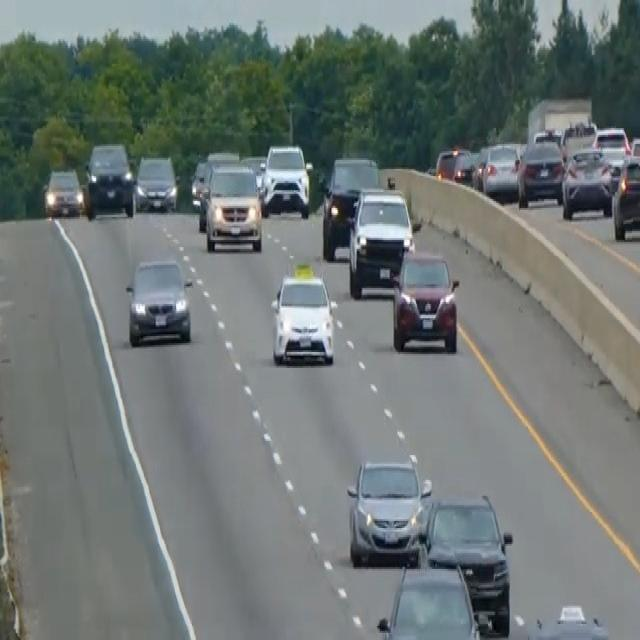car: (416, 491, 513, 633), (345, 455, 431, 565), (376, 560, 481, 638), (347, 185, 414, 299), (390, 247, 460, 354), (268, 260, 337, 368), (124, 256, 193, 347), (321, 154, 379, 260), (83, 140, 135, 218), (260, 142, 311, 219), (561, 146, 613, 220), (516, 135, 564, 208), (517, 603, 614, 638), (190, 148, 239, 212), (473, 141, 521, 199), (134, 151, 178, 212), (612, 151, 639, 240), (43, 165, 83, 217), (592, 122, 631, 172), (435, 144, 474, 185), (560, 119, 596, 157), (189, 155, 210, 208), (241, 153, 267, 195)
minivan: (202, 160, 263, 254)
